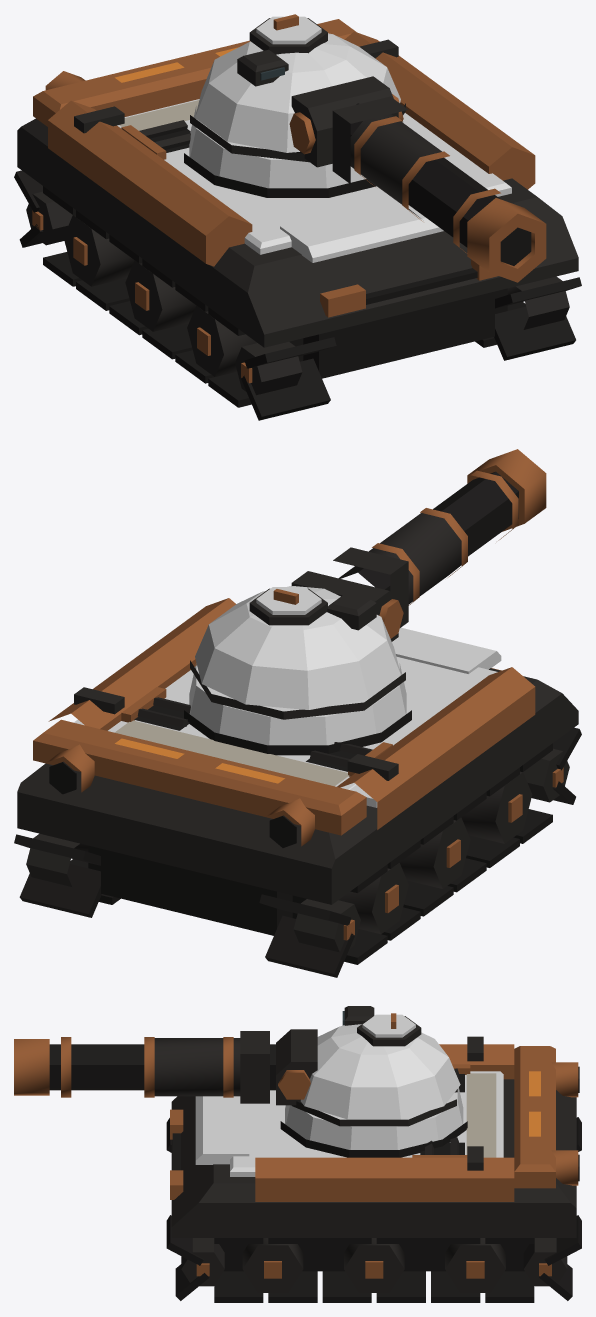
Rendered from lnd_t1_tank.b67ecfc5.glb.
The picture shows the model from 3 angles, top to bottom: view 1: azimuth 30°, elevation 25°; view 2: azimuth 150°, elevation 25°; view 3: azimuth 270°, elevation 25°; orthographic projection. The views are drawn at different scales.
Parts seen in each view (by area): view 1: lod0; view 2: lod0; view 3: lod0.
Part boxes in pixels (left/top/right/bottom): lod0: left=14, top=14, right=581, bottom=420; lod0: left=14, top=449, right=581, bottom=977; lod0: left=14, top=1006, right=581, bottom=1302.
Size of what is drawn, in the model's own units: 1.05 by 0.8239 by 1.91.
